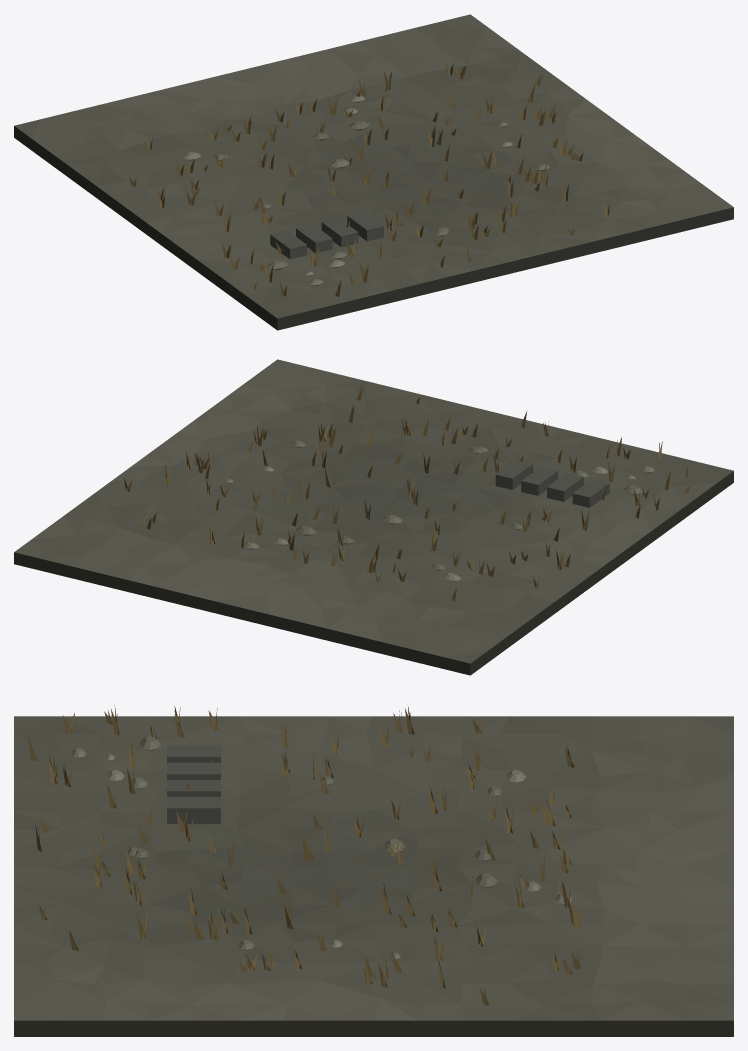
Rendered from CHUNK_oath_battlefield__burnt_field_hospital__01.glb.
The picture shows the model from 3 angles, top to bottom: view 1: azimuth 30°, elevation 25°; view 2: azimuth 150°, elevation 25°; view 3: azimuth 270°, elevation 25°; orthographic projection. The views are drawn at different scales.
Parts seen in each view (by area): view 1: CHUNK_oath_battlefield__burnt_field_hospital__01; view 2: CHUNK_oath_battlefield__burnt_field_hospital__01; view 3: CHUNK_oath_battlefield__burnt_field_hospital__01.
Part boxes in pixels (x1,y1,x2,y2): CHUNK_oath_battlefield__burnt_field_hospital__01: (14, 14, 733, 330); CHUNK_oath_battlefield__burnt_field_hospital__01: (14, 359, 733, 675); CHUNK_oath_battlefield__burnt_field_hospital__01: (14, 705, 733, 1036).
Size of the model in its own units: 8 by 0.5644 by 8.
